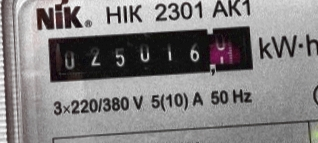0: (136, 39, 152, 63), (61, 47, 75, 70), (212, 30, 225, 51)
1: (161, 37, 174, 62), (215, 53, 224, 65)
2: (87, 43, 101, 67)
5: (112, 45, 124, 66)
6: (186, 38, 200, 64)
screen: (37, 15, 262, 88)
